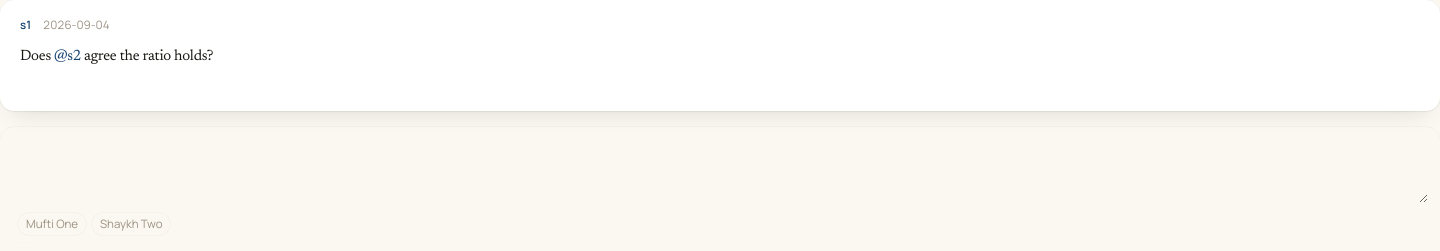
Test: the composer offers the board and nobody else › inserts the id, because names are ambiguous and ids are what the record uses
What coordinates should you click on to do the following:
click the button "Mufti One"
I would click on:
 (52, 224)
Its box is [18,213,86,235].
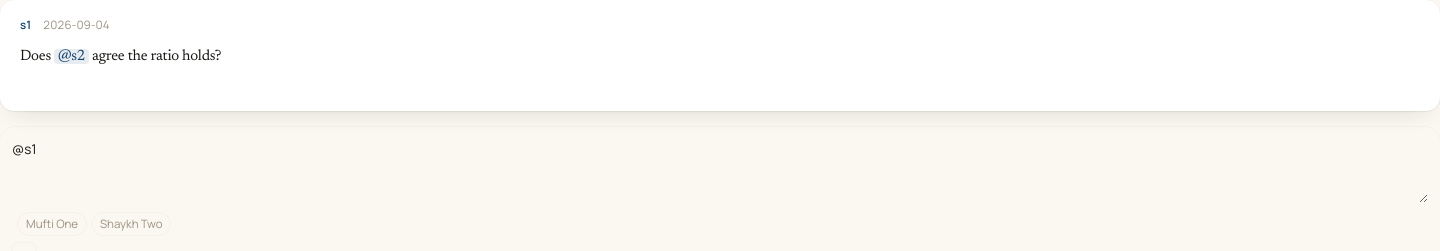
Now the text box holds "@s1 ", box [12,138,1428,203]
